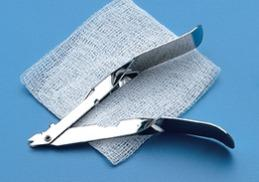Stapler Remover: (24, 23, 237, 161)
